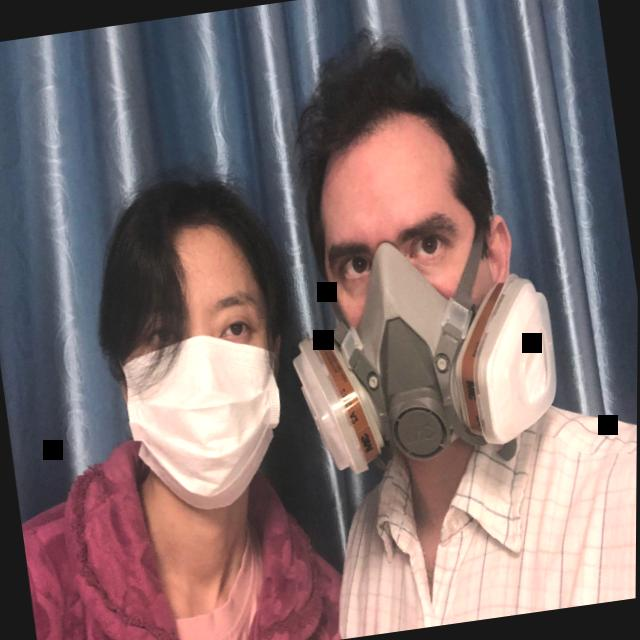Mask: (249, 14, 573, 484), (78, 166, 313, 526)
